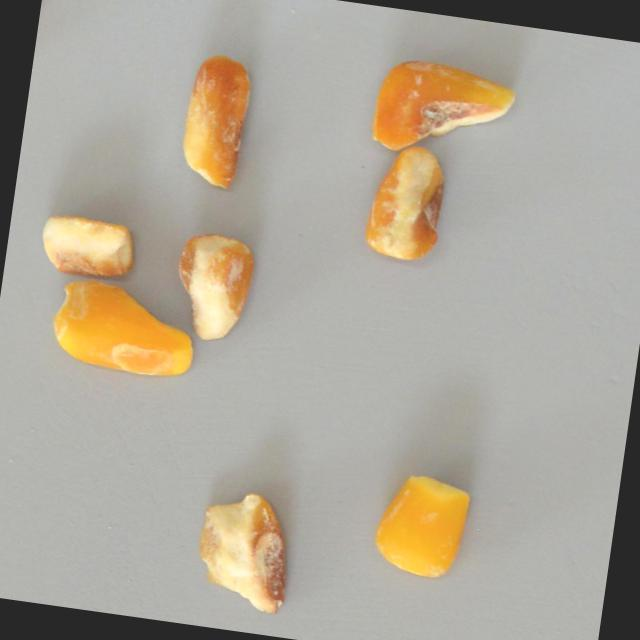dañado: (45, 273, 205, 385), (367, 52, 522, 167), (186, 482, 302, 617), (167, 46, 259, 192), (360, 138, 453, 266), (167, 227, 263, 348), (35, 208, 139, 283)
pelicula: (367, 457, 480, 587)
